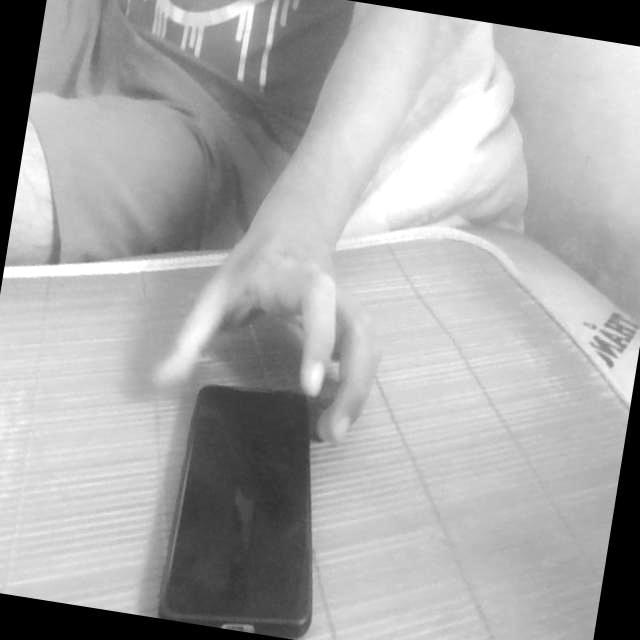phone: (134, 338, 364, 640)
